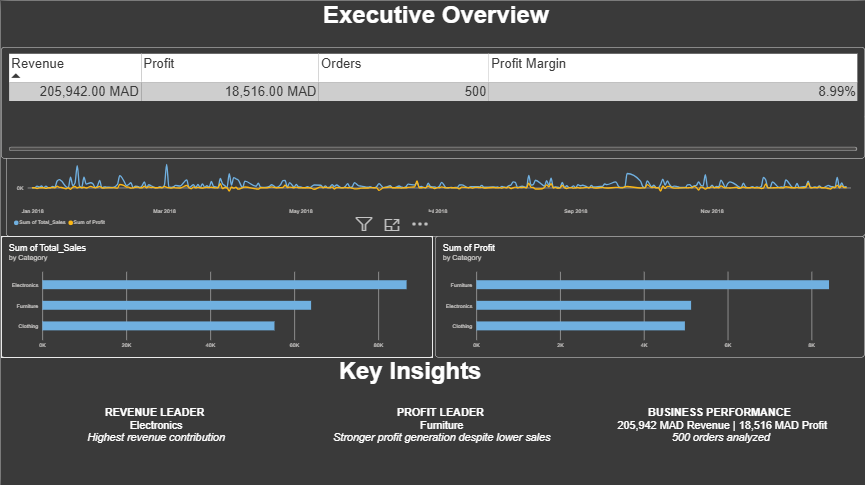

Layout of this report page (visuals, bound fields, positions):
{"tool":"powerbi","page":{"name":"Page 1","canvas":[1920,1080],"ordinal":0},"visuals":[{"type":"textbox","box":[10,0,1910,102.5],"z":0},{"type":"lineChart","fields":{"Category":["Ecommerce_Analysis.Order_Date.Variation.Date Hierarchy.Year","Ecommerce_Analysis.Order_Date.Variation.Date Hierarchy.Quarter","Ecommerce_Analysis.Order_Date.Variation.Date Hierarchy.Month","Ecommerce_Analysis.Order_Date.Variation.Date Hierarchy.Day"],"Y":["Sum(Ecommerce_Joined.Total_Sales)","Sum(Ecommerce_Analysis.Profit)"]},"box":[10,252.5,1910,270],"z":1000},{"type":"barChart","fields":{"Category":["Ecommerce_Joined.Category"],"Y":["Sum(Ecommerce_Joined.Total_Sales)"]},"box":[0,522.5,960,270],"z":2000},{"type":"barChart","fields":{"Y":["Sum(Ecommerce_Joined.Profit)"],"Category":["Ecommerce_Joined.Category"]},"box":[965,522.5,955,270],"z":3000},{"type":"textbox","box":[0,791.7,1818.3,88.3],"z":4000},{"type":"textbox","box":[0,900,682.5,180],"z":5000},{"type":"textbox","box":[682.5,900,587.5,180],"z":6000},{"type":"textbox","box":[1270,900,650,180],"z":7000},{"type":"tableEx","fields":{"Values":["Sum(Ecommerce_Analysis.Revenue)","Sum(Ecommerce_Analysis.Profit)","Ecommerce_Analysis.Total Orders","Ecommerce_Analysis.nowProfit Margin"]},"box":[0,102.5,1920,247.5],"z":8000}]}

Visuals, with their boxes in screenshot pixels (x1, y1, x2, y2), scaled from the page's 1920x1080 canvas onto the 865x485 screenshot:
textbox: x1=5 y1=0 x2=864 y2=46
lineChart - Ecommerce_Analysis.Order_Date.Variation.Date Hierarchy.Year x Ecommerce_Analysis.Order_Date.Variation.Date Hierarchy.Quarter: x1=5 y1=113 x2=864 y2=235
barChart - Ecommerce_Joined.Category x Sum(Ecommerce_Joined.Total_Sales): x1=0 y1=235 x2=432 y2=356
barChart - Sum(Ecommerce_Joined.Profit) x Ecommerce_Joined.Category: x1=435 y1=235 x2=864 y2=356
textbox: x1=0 y1=356 x2=819 y2=395
textbox: x1=0 y1=404 x2=307 y2=484
textbox: x1=307 y1=404 x2=572 y2=484
textbox: x1=572 y1=404 x2=864 y2=484
tableEx - Sum(Ecommerce_Analysis.Revenue) x Sum(Ecommerce_Analysis.Profit): x1=0 y1=46 x2=864 y2=157
